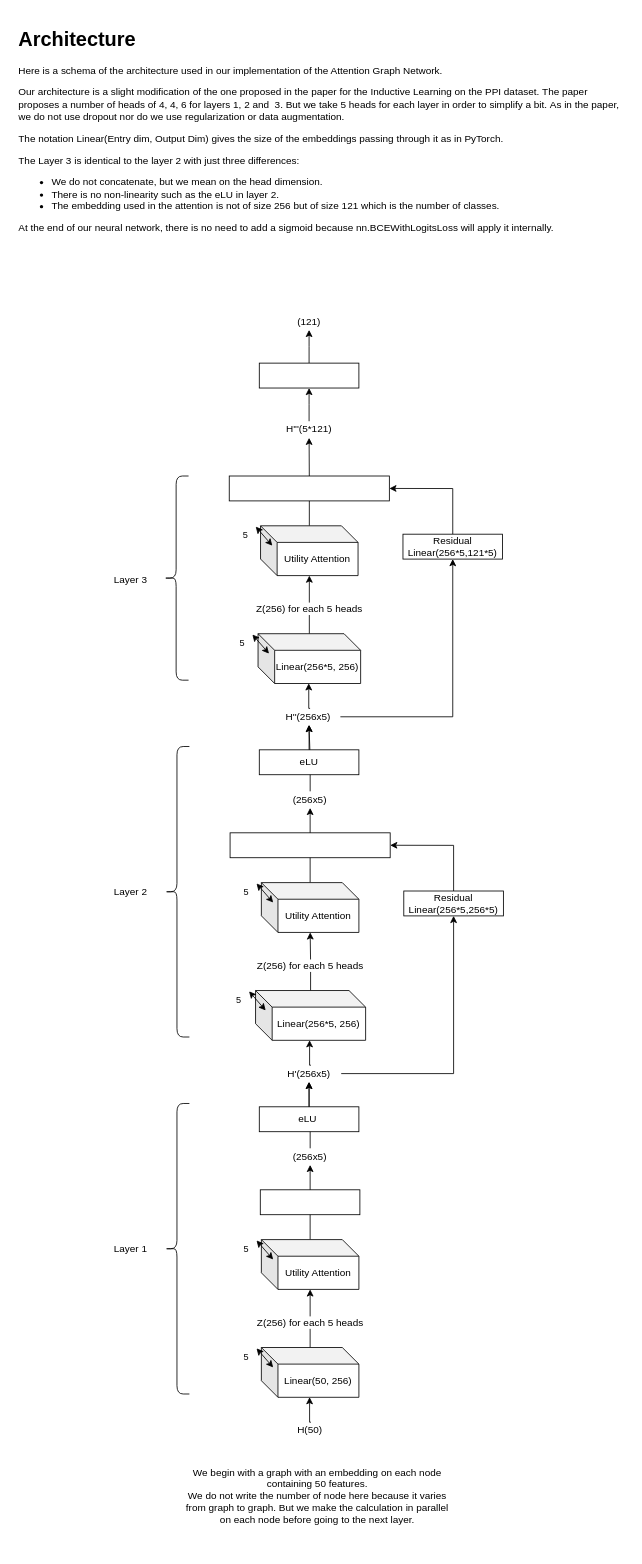
The diagram is 642 pixels wide and 1564 high, and some of its shapes have lost their labels. Each missing label, with the box of its shape:
Addition with Residual: (228, 475, 389, 501)
Concat: (259, 1189, 360, 1215)
Concat + Addition with Residual: (229, 832, 390, 858)
mean: (258, 362, 359, 388)
